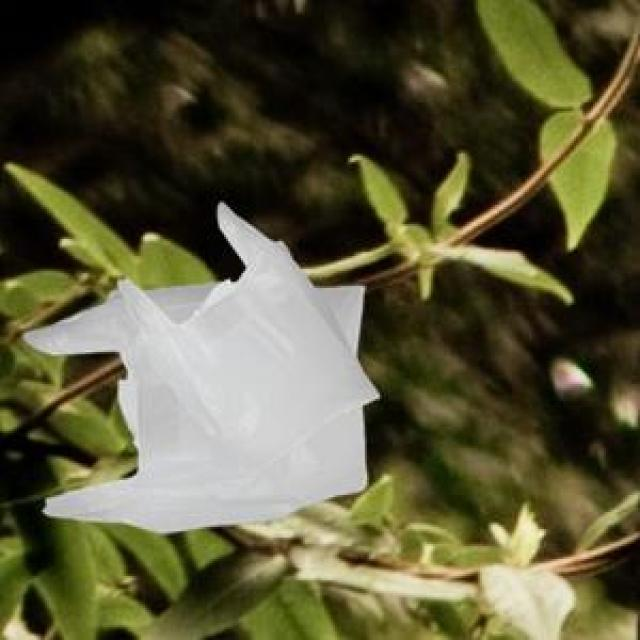waste: (24, 202, 379, 532)
